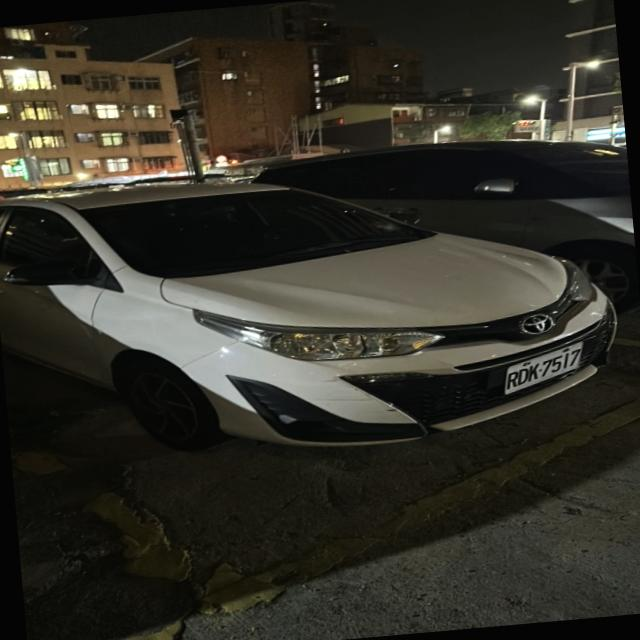license plate: (503, 342, 591, 394)
wheel: (117, 356, 224, 450)
